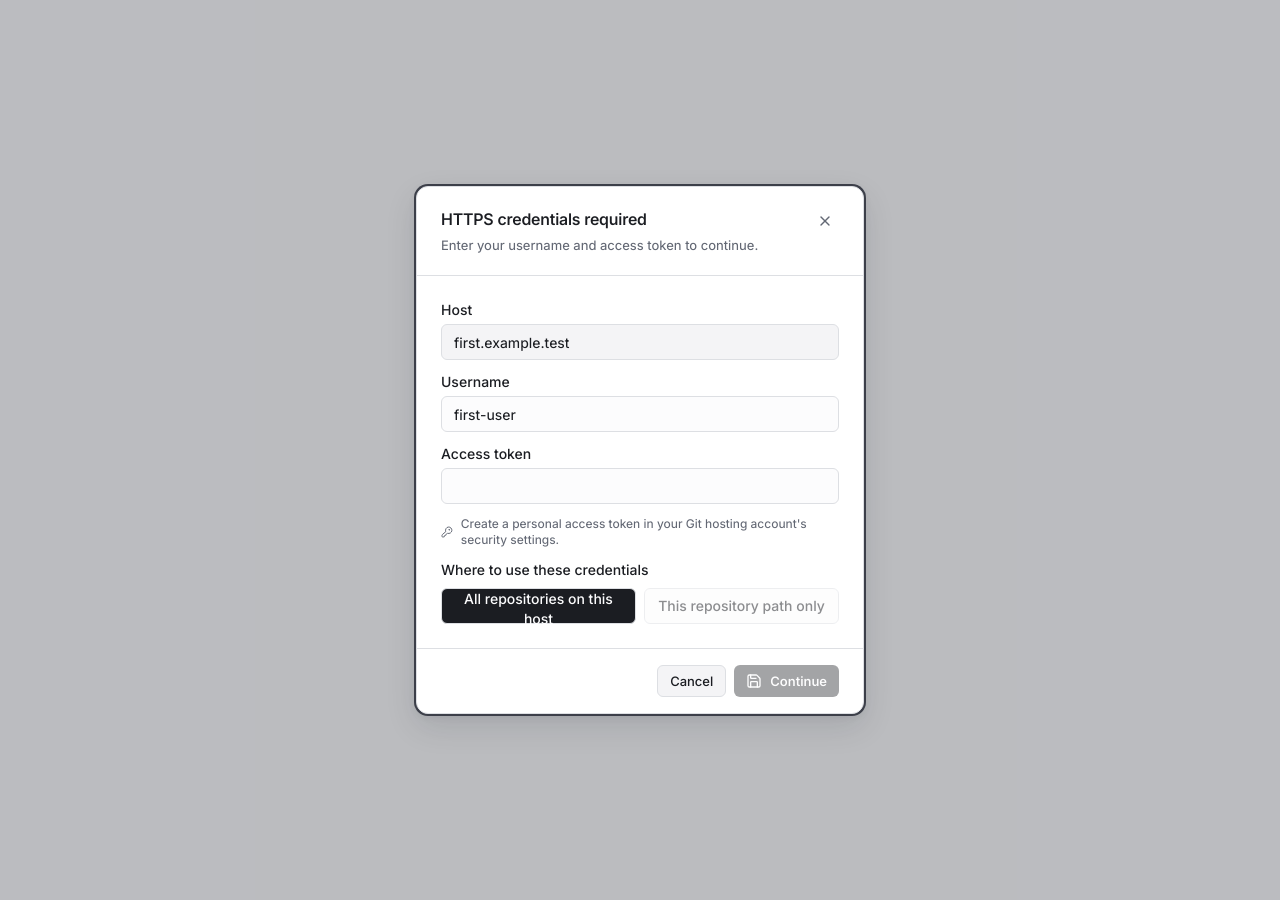
HttpsCredentialPromptDialog › queues concurrent prompts and advances after the active prompt finishes
Expected: the field labelled "Host" holds "first.example.test", [441,324,839,360]
Click the button "Cancel": (692, 681) [657,665,726,697]
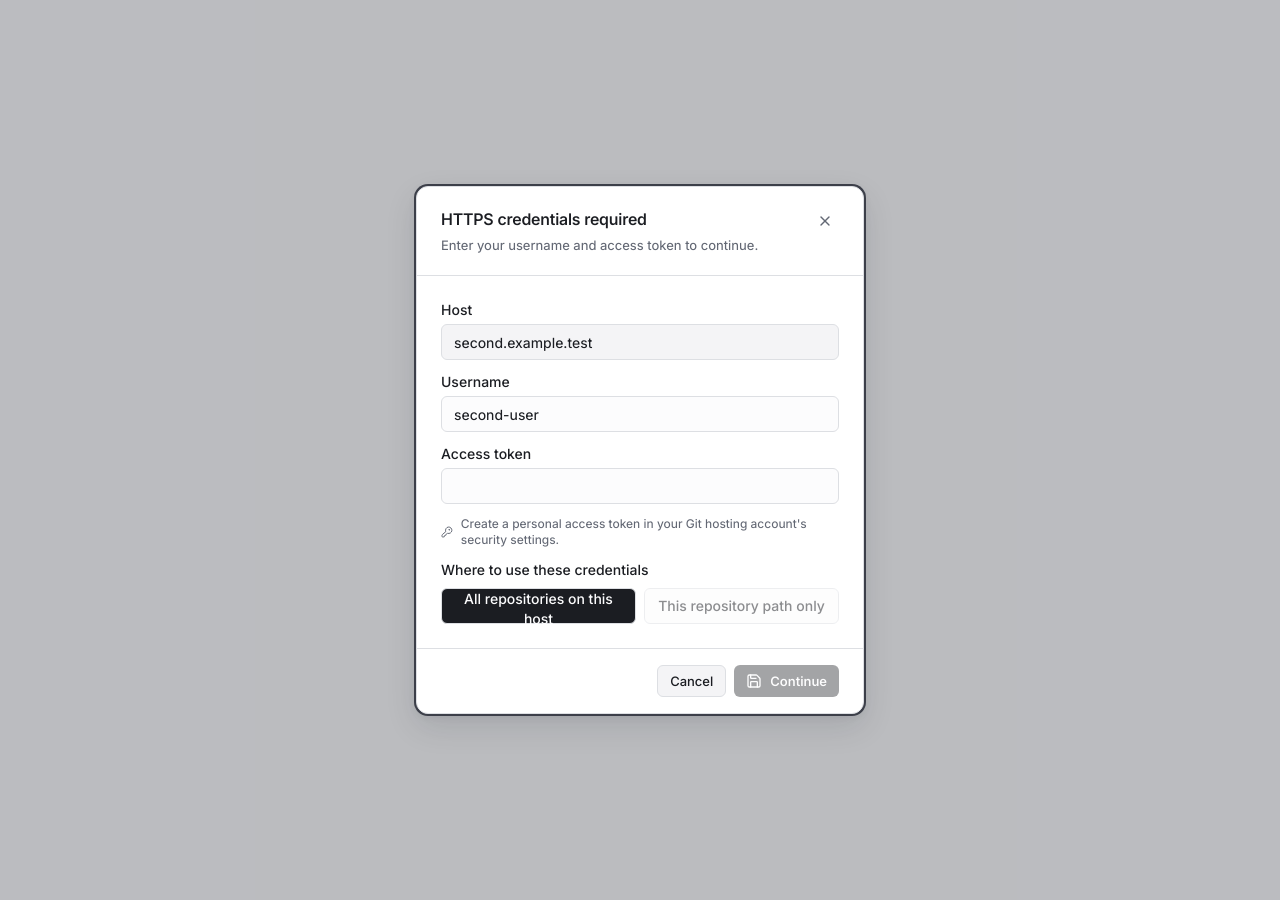
Expected: the field labelled "Host" holds "second.example.test", [441,324,839,360]
